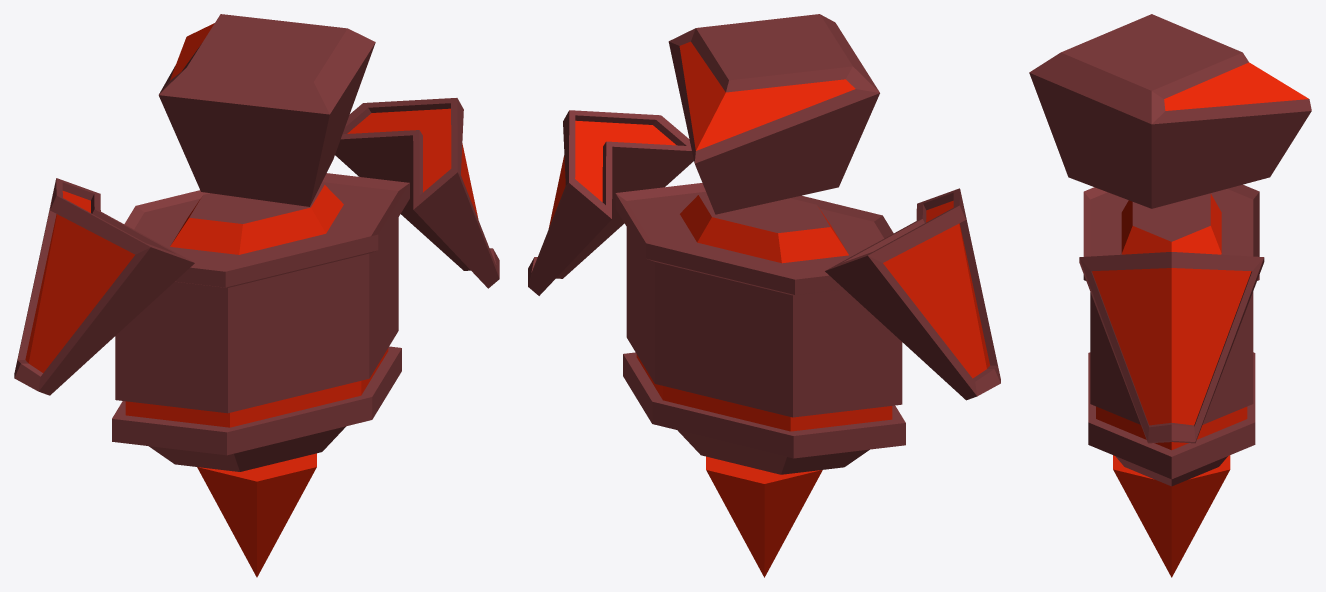
The model's file is fireminion.gltf.
The picture shows the model from 3 angles, left to right: view 1: azimuth 30°, elevation 25°; view 2: azimuth 150°, elevation 25°; view 3: azimuth 270°, elevation 25°; orthographic projection. The views are drawn at different scales.
Parts seen in each view (by area): view 1: Torso, Head, Shoulders, Shoulders.001, Exhaust; view 2: Torso, Head, Shoulders, Shoulders.001, Exhaust; view 3: Head, Torso, Shoulders.001, Exhaust.
Part boxes in pixels (box(x1,y1,x2,y2)): Torso: box(112, 173, 409, 471); Head: box(158, 14, 375, 206); Shoulders: box(14, 178, 194, 395); Shoulders.001: box(335, 98, 499, 288); Exhaust: box(197, 453, 316, 577); Torso: box(615, 183, 905, 474); Head: box(668, 14, 879, 214); Shoulders: box(825, 188, 1000, 400); Shoulders.001: box(528, 110, 693, 295); Exhaust: box(706, 456, 822, 577); Head: box(1029, 14, 1311, 208); Torso: box(1083, 184, 1259, 486); Shoulders.001: box(1079, 252, 1264, 443); Exhaust: box(1113, 455, 1230, 577).
Bounding box in the file's own units: 4.28 × 4.53 × 2.21.
